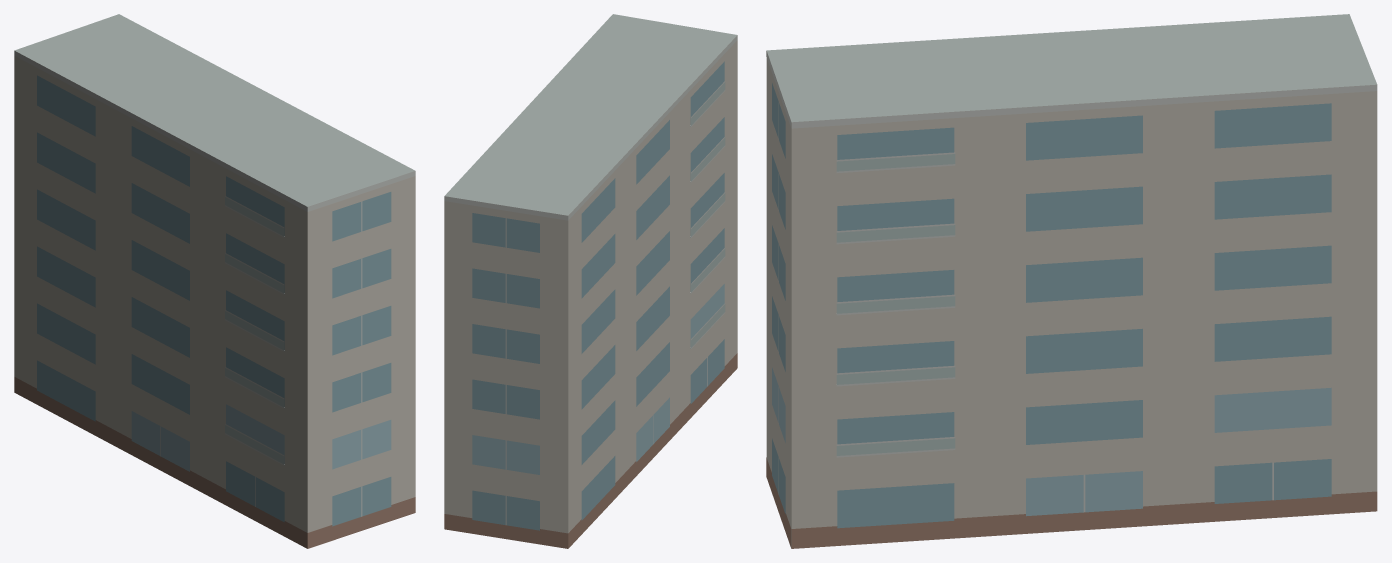
The model's file is survey-upis-32577101.glb.
The picture shows the model from 3 angles, left to right: view 1: azimuth 30°, elevation 25°; view 2: azimuth 150°, elevation 25°; view 3: azimuth 270°, elevation 25°; orthographic projection. The views are drawn at different scales.
Visible parts, largest first — view 1: survey-upis-32577101.tmp; view 2: survey-upis-32577101.tmp; view 3: survey-upis-32577101.tmp.
Boxes of the visible parts, left/top/right/bottom form: survey-upis-32577101.tmp: left=14, top=14, right=415, bottom=548; survey-upis-32577101.tmp: left=444, top=14, right=737, bottom=548; survey-upis-32577101.tmp: left=766, top=14, right=1377, bottom=548.
Bounding box in the file's own units: 8.93 × 16.4 × 21.29.
